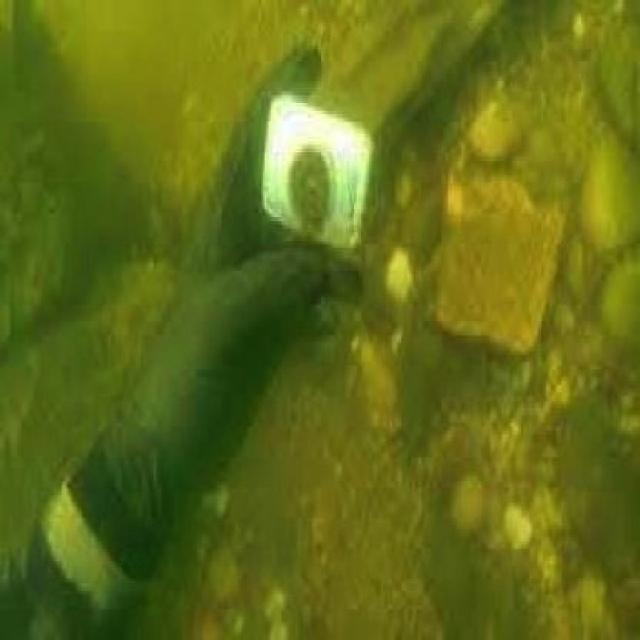electronics: (260, 88, 375, 263)
